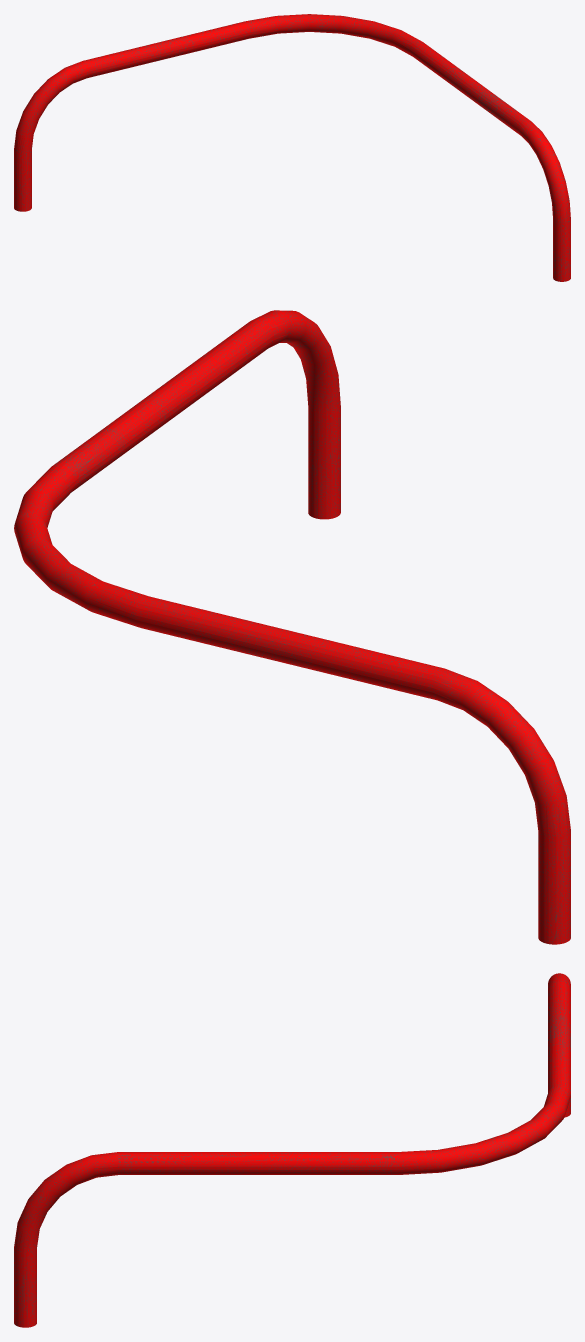
Rendered from original-54.obj.
The picture shows the model from 3 angles, top to bottom: view 1: azimuth 30°, elevation 25°; view 2: azimuth 150°, elevation 25°; view 3: azimuth 270°, elevation 25°; orthographic projection. The views are drawn at different scales.
Parts seen in each view (by area): view 1: mesh57/mesh57-geometry#mesh57-geometry; view 2: mesh57/mesh57-geometry#mesh57-geometry; view 3: mesh57/mesh57-geometry#mesh57-geometry.
Boxes of the visible parts, <box> form: mesh57/mesh57-geometry#mesh57-geometry: <box>14,14,570,281</box>; mesh57/mesh57-geometry#mesh57-geometry: <box>14,310,570,944</box>; mesh57/mesh57-geometry#mesh57-geometry: <box>14,973,570,1327</box>.
Size of the model in its own units: 0.1873 by 0.0676 by 0.201.
